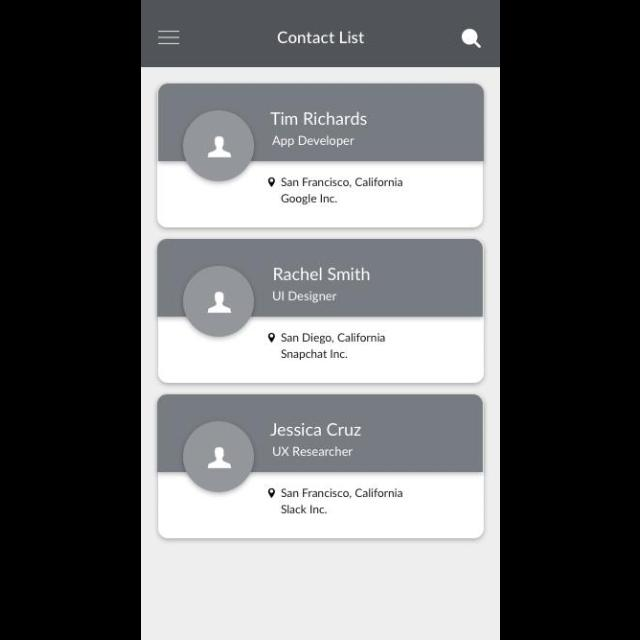icon: (183, 266, 255, 336), (183, 422, 254, 492), (183, 111, 254, 181), (461, 29, 483, 49), (157, 31, 180, 45), (267, 333, 275, 343), (268, 178, 274, 188), (268, 488, 274, 498)
text: (279, 178, 403, 205), (280, 488, 402, 514), (280, 334, 384, 361), (270, 111, 368, 127), (274, 266, 370, 282), (270, 424, 362, 436), (278, 32, 367, 44), (272, 136, 356, 148), (273, 446, 353, 456), (273, 291, 337, 303)
toolbar: (141, 1, 499, 68)
